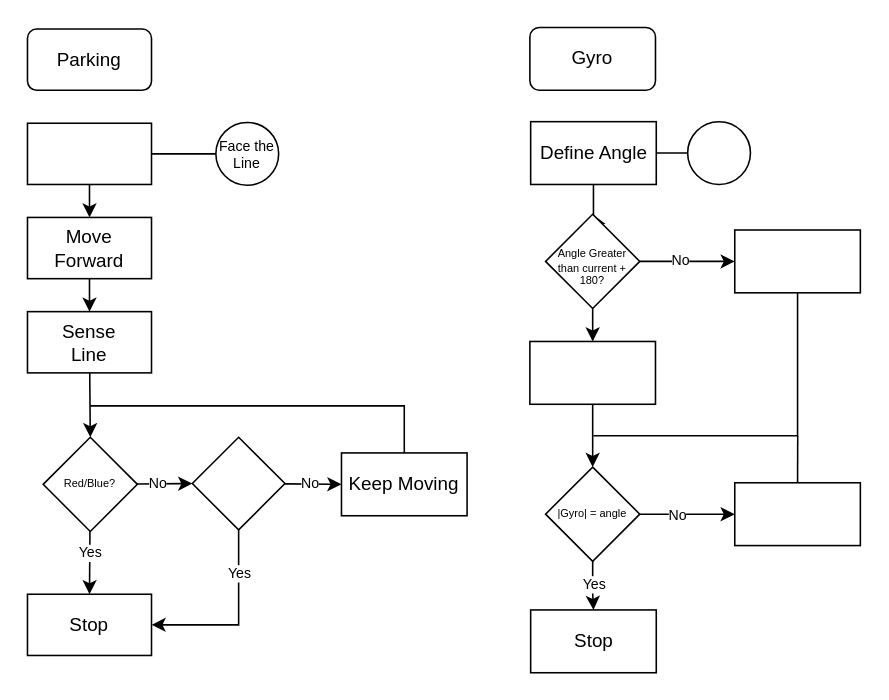
This 889x700 diagram has some shape labels left out. The shapes that lost their labels are listed below. From the top down, each one's centre as x and y in pixels, then its label:
At pixel 89 153: "Orient Robot".
At pixel 718 152: "Change Variable".
At pixel 796 260: "Turn Right".
At pixel 591 372: "Turn Left".
At pixel 238 483: "3 Seconds?".
At pixel 796 513: "Keep Turning".
